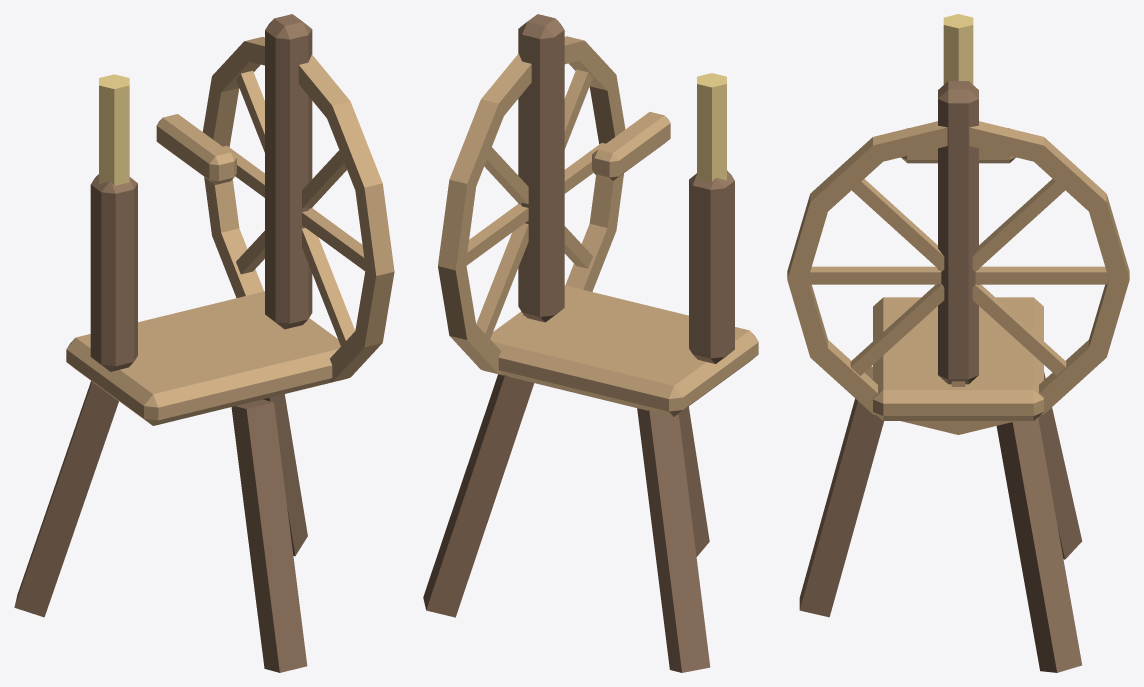
The model's file is spinning-wheel.glb.
The picture shows the model from 3 angles, left to right: view 1: azimuth 30°, elevation 25°; view 2: azimuth 150°, elevation 25°; view 3: azimuth 270°, elevation 25°; orthographic projection. The views are drawn at different scales.
Parts seen in each view (by area): view 1: spinning-wheel, spindle; view 2: spinning-wheel, spindle; view 3: spinning-wheel, spindle.
Part boxes in pixels (bbox=[...]): spinning-wheel: bbox=[14, 14, 347, 672]; spindle: bbox=[202, 37, 394, 381]; spinning-wheel: bbox=[423, 14, 758, 672]; spindle: bbox=[438, 36, 625, 373]; spinning-wheel: bbox=[799, 14, 1081, 672]; spindle: bbox=[787, 121, 1129, 434].
Bounding box in the file's own units: 0.9624 × 1.81 × 1.
